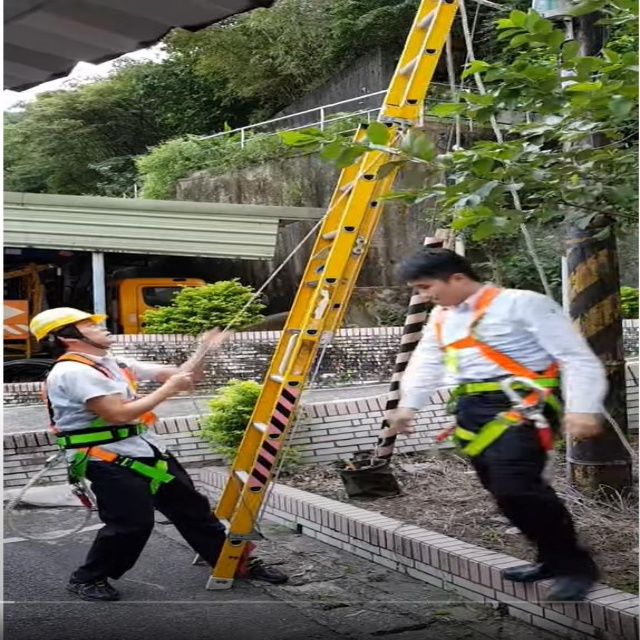Arnes_seguridad: (438, 283, 561, 459), (42, 353, 176, 493)
